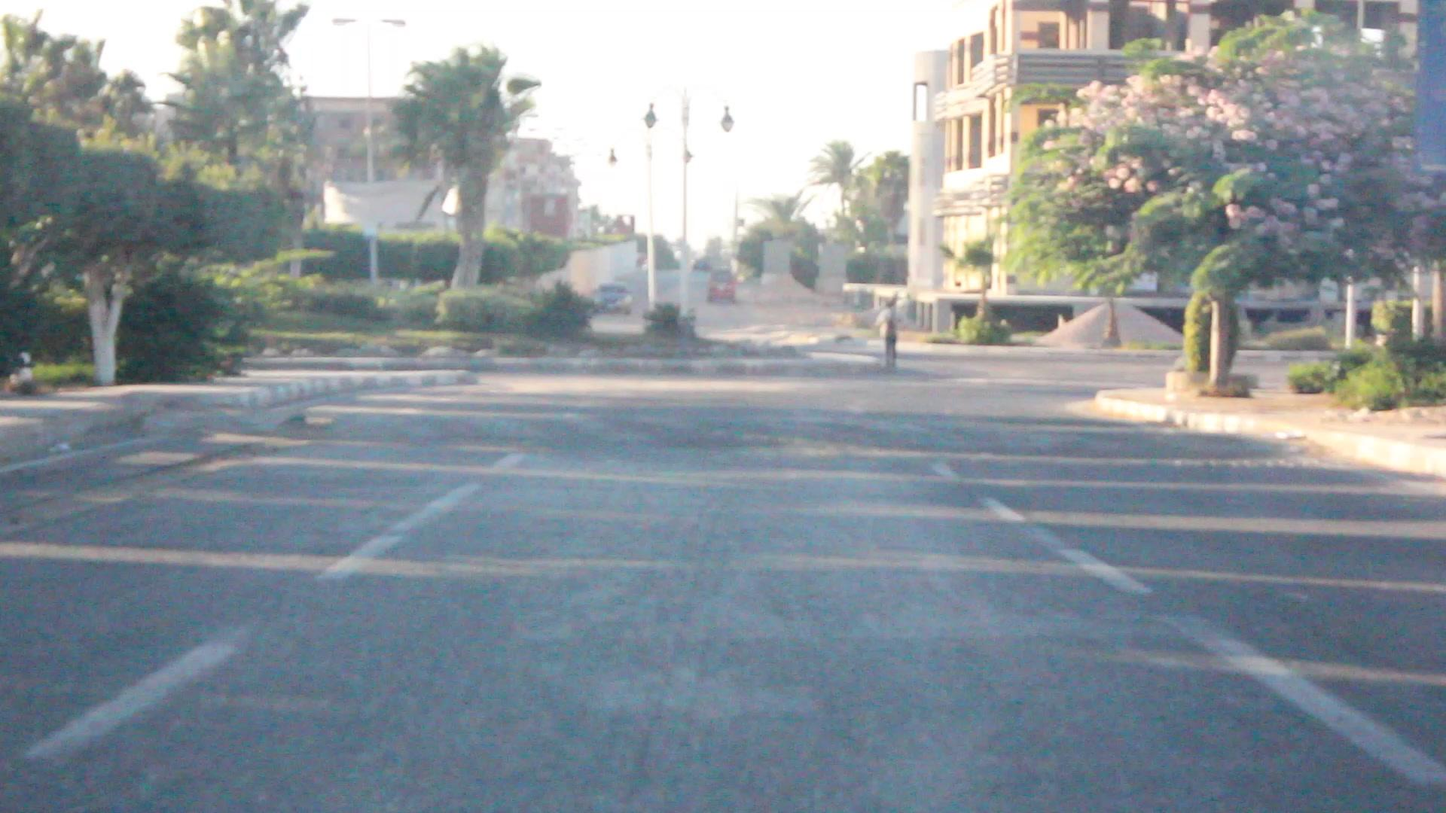Bump: (286, 401, 1190, 461)
